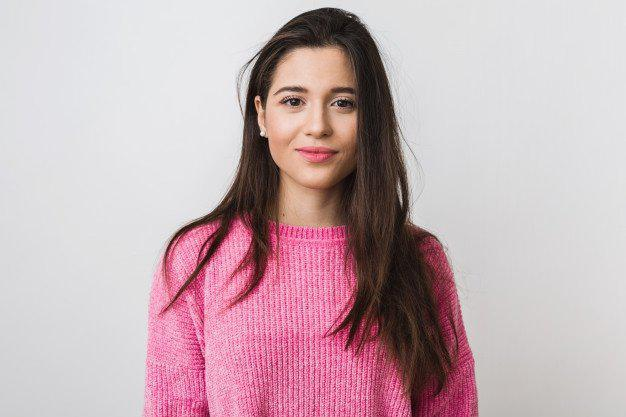Sober: (272, 57, 361, 181)
